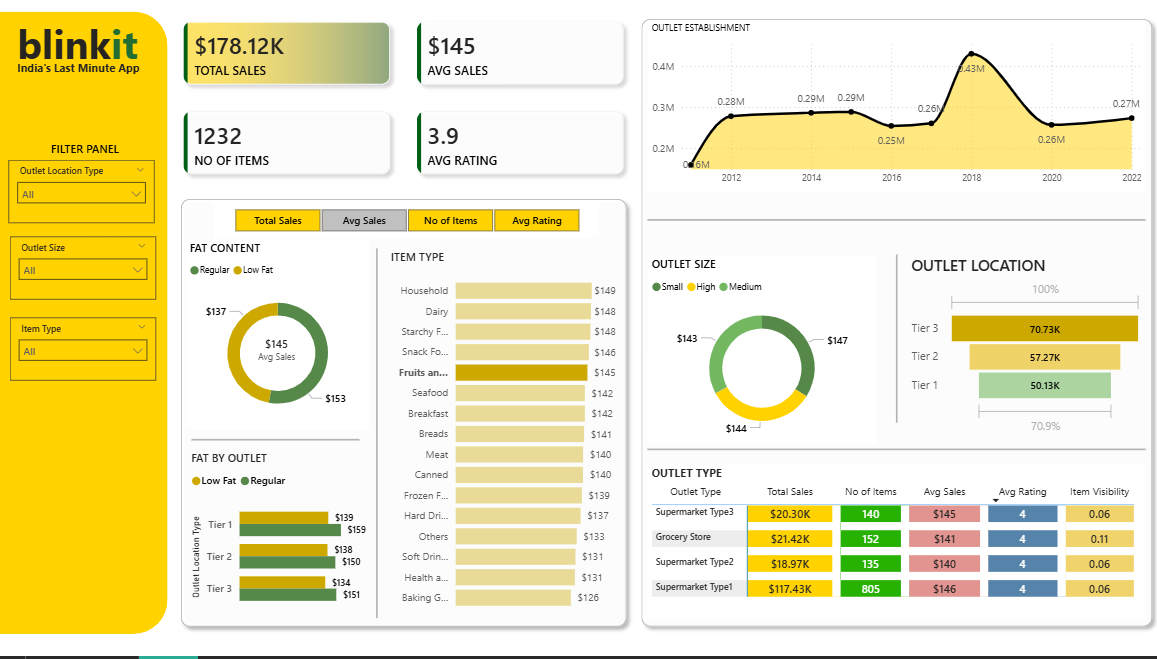

The dashboard page shown, as its layout file describes it:
{"tool":"powerbi","page":{"name":"Page 1","canvas":[1400,800],"ordinal":0},"visuals":[{"type":"shape","box":[0,23.9,204.3,750],"z":0},{"type":"cardVisual","fields":{"Data":["BlinkIT Grocery Data.Total Sales","BlinkIT Grocery Data.Avg Sales","BlinkIT Grocery Data.No of Items","BlinkIT Grocery Data.Avg Rating"]},"box":[211.9,23.8,554.8,209.5],"z":1000},{"type":"textbox","box":[17.4,23.9,171.3,79.7],"z":2000},{"type":"shape","box":[211.9,240.5,554.8,533.3],"z":3000},{"type":"textbox","box":[17.5,76.6,159.4,28.1],"z":4000},{"type":"slicer","fields":{"Values":["Metrics.Metrics"]},"box":[259.5,254.8,464.3,40.5],"z":5000},{"type":"donutChart","title":"FAT CONTENT","fields":{"Y":["BlinkIT Grocery Data.Avg Rating"],"Category":["BlinkIT Grocery Data.Item Fat Content"]},"box":[226.2,297.6,221.4,228.6],"z":5000,"group":"g1"},{"type":"clusteredBarChart","title":"FAT BY OUTLET","fields":{"Y":["BlinkIT Grocery Data.Avg Rating"],"Category":["BlinkIT Grocery Data.Outlet Location Type"],"Series":["BlinkIT Grocery Data.Item Fat Content"]},"box":[227.7,551.2,220.5,204.2],"z":6000},{"type":"cardVisual","fields":{"Data":["BlinkIT Grocery Data.Avg Rating"]},"box":[266.7,383.3,140.5,95.2],"z":7000,"group":"g1"},{"type":"shape","box":[233.1,509.8,202.4,59.5],"z":7000},{"type":"shape","box":[445,309.8,23.8,445.2],"z":8000},{"type":"barChart","title":"ITEM TYPE","fields":{"Y":["BlinkIT Grocery Data.Avg Rating"],"Category":["BlinkIT Grocery Data.Item Type"]},"box":[468.9,309.8,281,445.2],"z":9000},{"type":"shape","box":[766.7,23.8,633.3,750],"z":10000},{"type":"lineChart","title":"OUTLET ESTABLISHMENT","fields":{"Y":["Sum(BlinkIT Grocery Data.Outlet Establishment Year)"],"Category":["BlinkIT Grocery Data.Outlet Establishment Year"]},"box":[782.5,36.1,600,204.2],"z":11000},{"type":"shape","box":[783.3,264.3,600,21.4],"z":12000},{"type":"donutChart","title":"OUTLET SIZE","fields":{"Y":["BlinkIT Grocery Data.Avg Rating"],"Category":["BlinkIT Grocery Data.Outlet Size"]},"box":[783.3,317.5,275,225],"z":13000},{"type":"shape","box":[1077.1,317.1,11.4,202.9],"z":14000},{"type":"funnel","title":"OUTLET LOCATION","fields":{"Category":["BlinkIT Grocery Data.Outlet Location Type"],"Y":["Sum(BlinkIT Grocery Data.Sales)"]},"box":[1095.2,316.7,288.1,221.4],"z":15000},{"type":"shape","box":[783.3,540.5,600,21.4],"z":16000},{"type":"pivotTable","title":"OUTLET TYPE","fields":{"Rows":["BlinkIT Grocery Data.Outlet Type"],"Values":["BlinkIT Grocery Data.Total Sales","BlinkIT Grocery Data.No of Items","BlinkIT Grocery Data.Avg Sales","BlinkIT Grocery Data.Avg Rating","Avg(BlinkIT Grocery Data.Item Visibility)"]},"box":[783.3,569,600,185.7],"z":17000},{"type":"slicer","fields":{"Values":["BlinkIT Grocery Data.Outlet Location Type"]},"box":[11.9,202.4,176.2,76.2],"z":18000},{"type":"slicer","fields":{"Values":["BlinkIT Grocery Data.Outlet Size"]},"box":[14.3,295.2,176.2,76.2],"z":19000},{"type":"slicer","fields":{"Values":["BlinkIT Grocery Data.Item Type"]},"box":[14.3,392.9,176.2,76.2],"z":20000},{"type":"group","id":"g1","title":"Group 1","box":[226.2,297.6,221.4,228.6],"z":21000},{"type":"textbox","box":[16.7,173.8,145.2,28.6],"z":22000}]}

Visuals, with their boxes in screenshot pixels (x1, y1, x2, y2), scaled from the page's 1400x800 canvas onto the 1157x659 screenshot:
shape: region(0, 20, 169, 638)
cardVisual - BlinkIT Grocery Data.Total Sales x BlinkIT Grocery Data.Avg Sales: region(175, 20, 634, 192)
textbox: region(14, 20, 156, 85)
shape: region(175, 198, 634, 637)
textbox: region(14, 63, 146, 86)
slicer - Metrics.Metrics: region(214, 210, 598, 243)
"FAT CONTENT" donutChart: region(187, 245, 370, 433)
"FAT BY OUTLET" clusteredBarChart: region(188, 454, 370, 622)
cardVisual - BlinkIT Grocery Data.Avg Rating: region(220, 316, 337, 394)
shape: region(193, 420, 360, 469)
shape: region(368, 255, 387, 622)
"ITEM TYPE" barChart: region(388, 255, 620, 622)
shape: region(634, 20, 1156, 637)
"OUTLET ESTABLISHMENT" lineChart: region(647, 30, 1143, 198)
shape: region(647, 218, 1143, 235)
"OUTLET SIZE" donutChart: region(647, 262, 875, 447)
shape: region(890, 261, 900, 428)
"OUTLET LOCATION" funnel: region(905, 261, 1143, 443)
shape: region(647, 445, 1143, 463)
"OUTLET TYPE" pivotTable: region(647, 469, 1143, 622)
slicer - BlinkIT Grocery Data.Outlet Location Type: region(10, 167, 155, 229)
slicer - BlinkIT Grocery Data.Outlet Size: region(12, 243, 157, 306)
slicer - BlinkIT Grocery Data.Item Type: region(12, 324, 157, 386)
"Group 1" group: region(187, 245, 370, 433)
textbox: region(14, 143, 134, 167)
